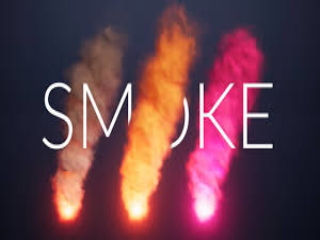fire: (50, 200, 92, 222), (124, 197, 153, 223)
smoke: (197, 24, 266, 190), (131, 16, 195, 188), (55, 31, 123, 182)
